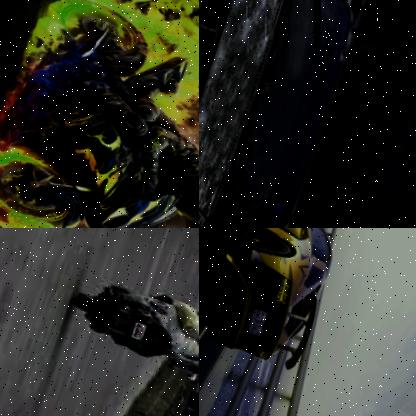bike: (67, 274, 183, 362)
car: (199, 0, 404, 228), (199, 228, 352, 373)
